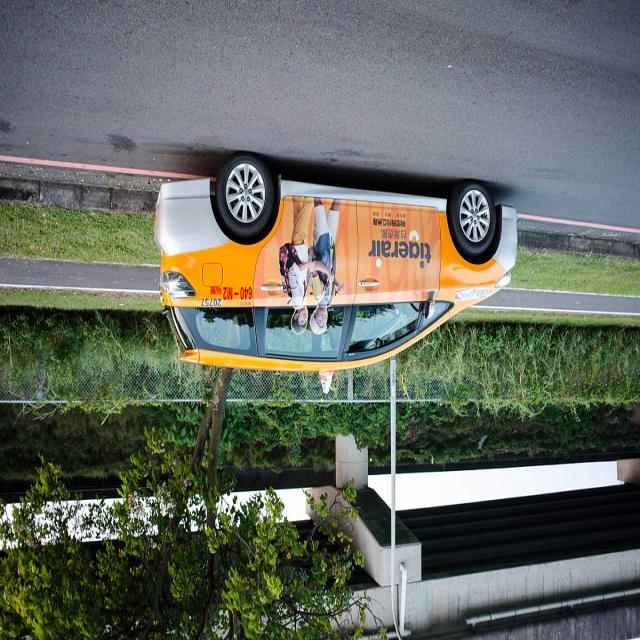taxi: (136, 147, 512, 393)
